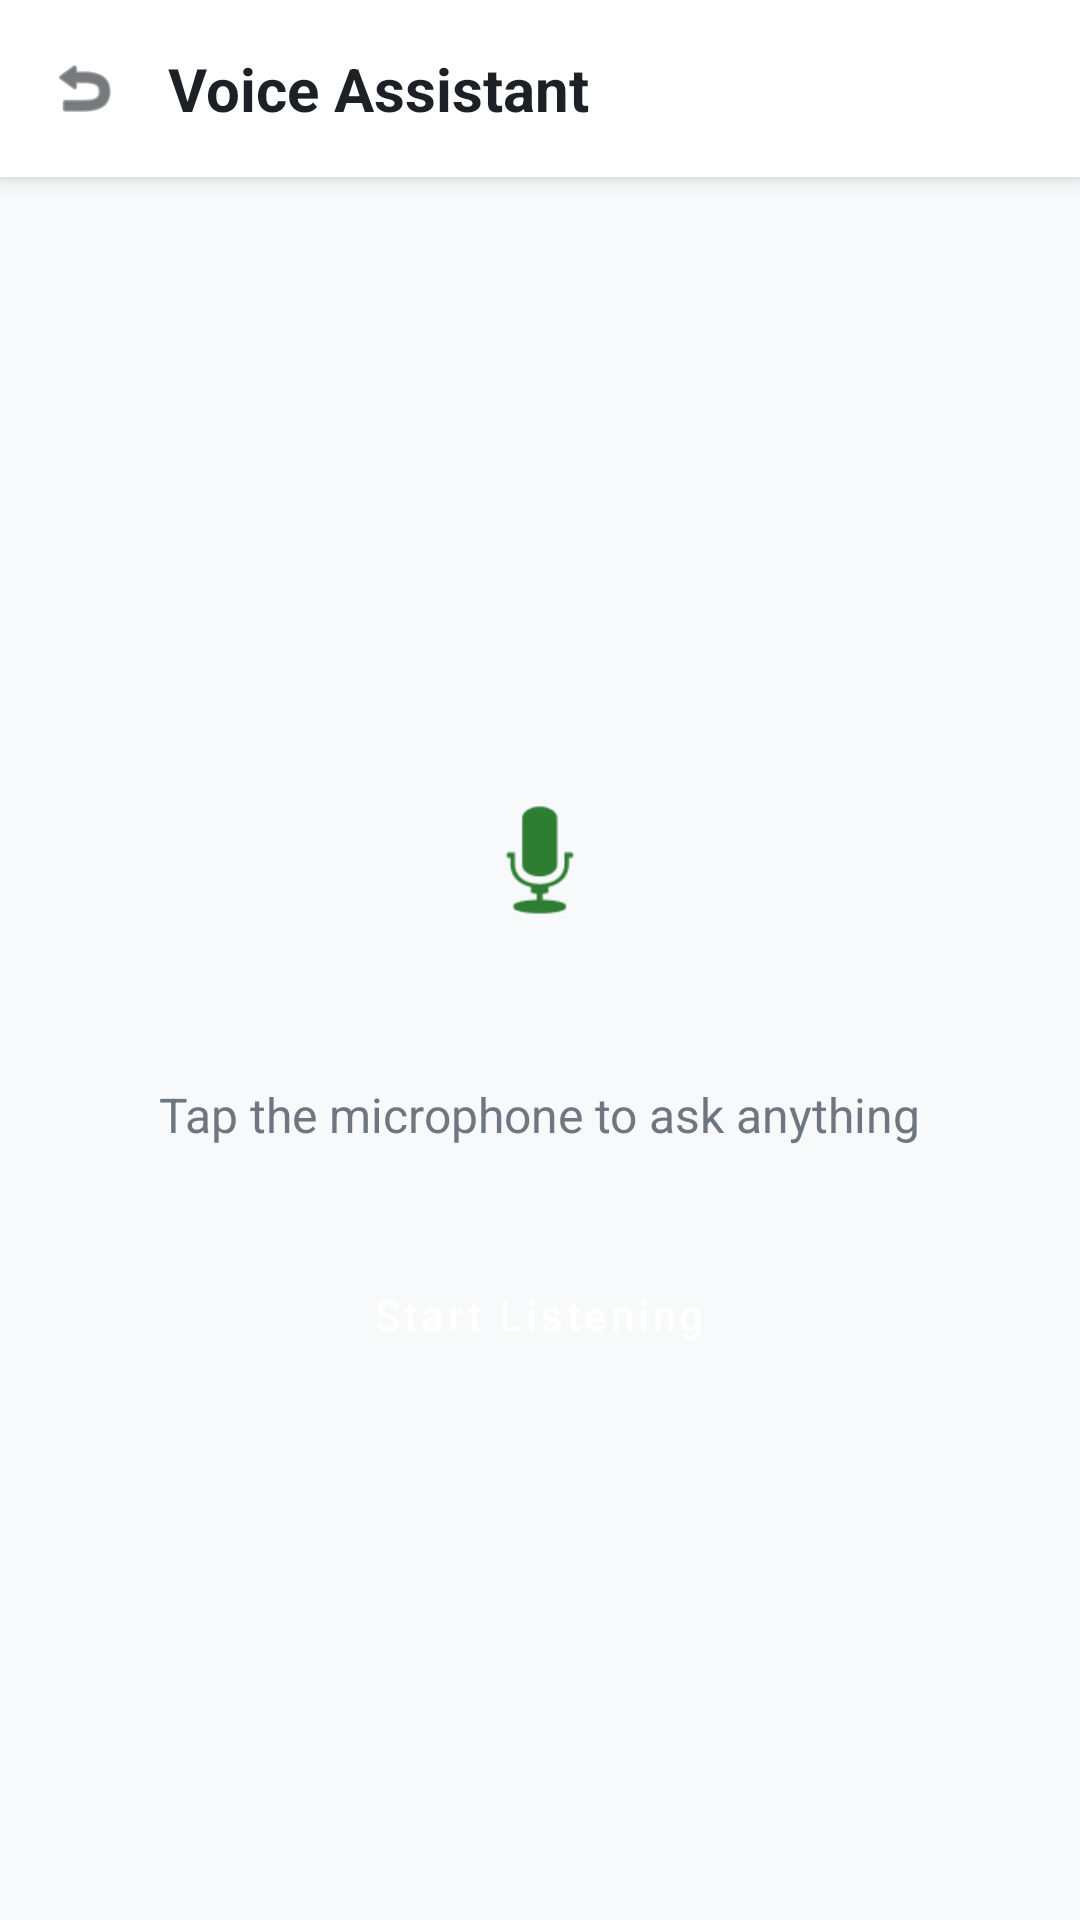

Where icons sit on this 1080x1920 app screen, as [x1, y1, x2, y2]:
revert: [59, 65, 111, 112]
speak now: [506, 806, 574, 914]
